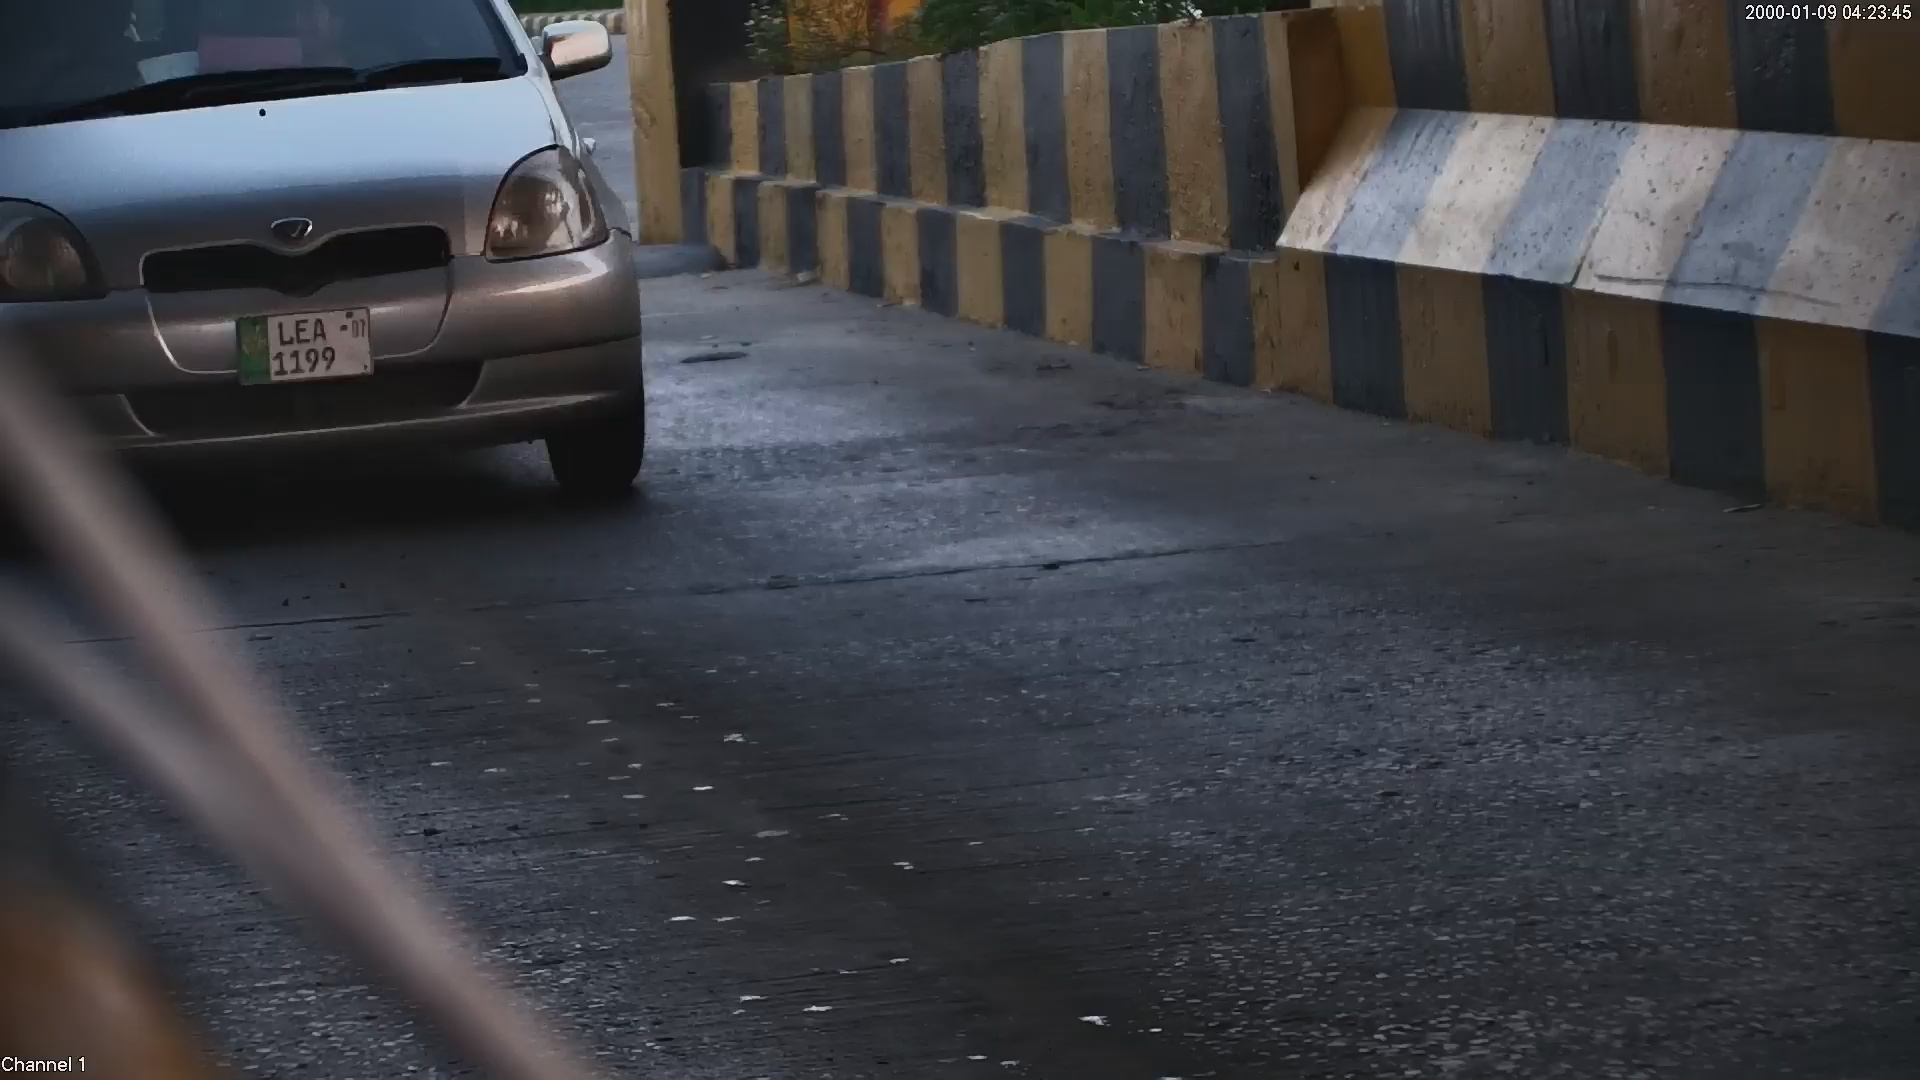Number_Plate: (221, 299, 380, 394)
